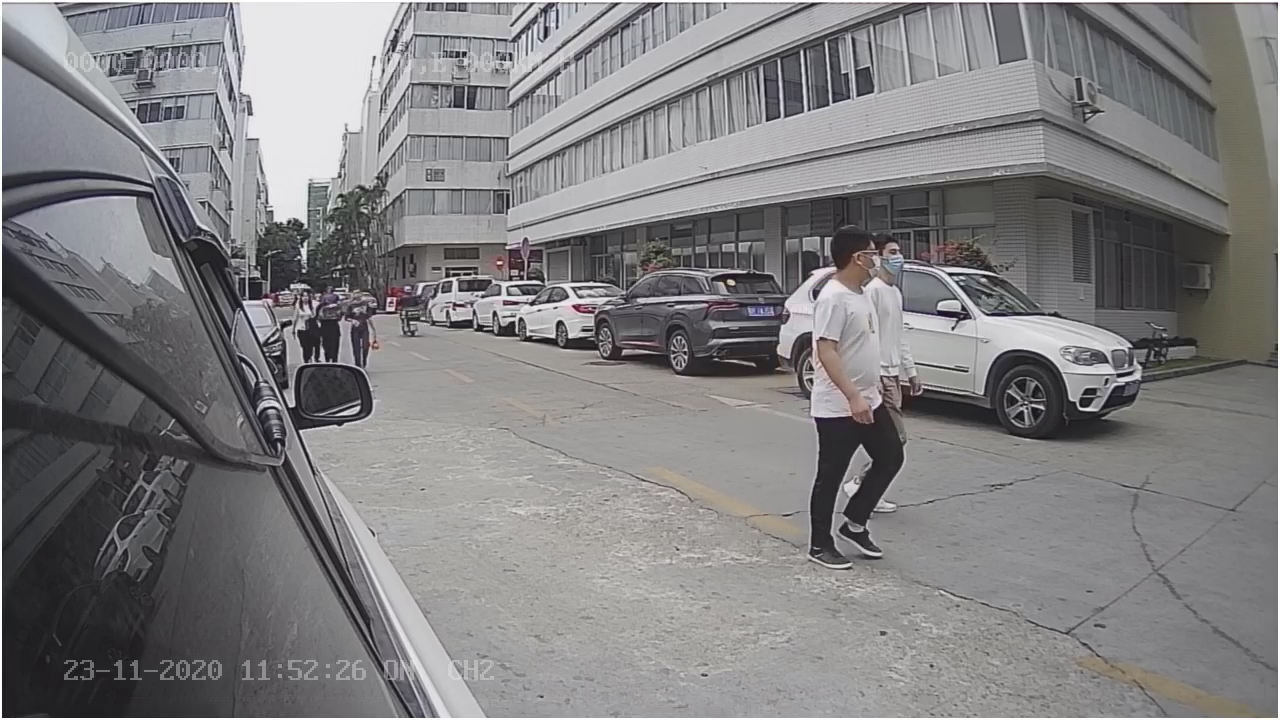person: (804, 230, 889, 586)
